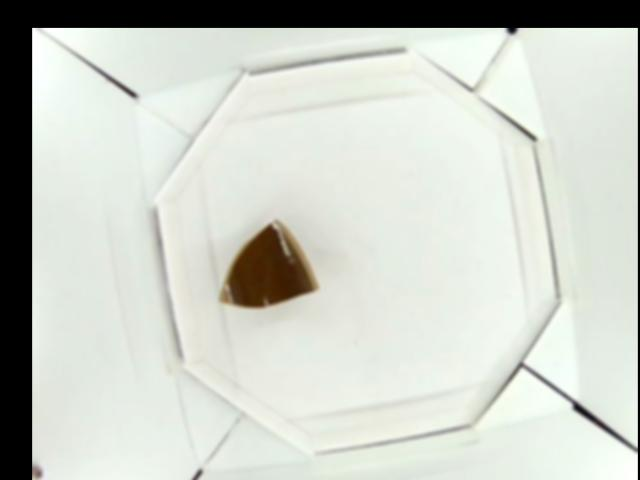China: (219, 219, 319, 310)
